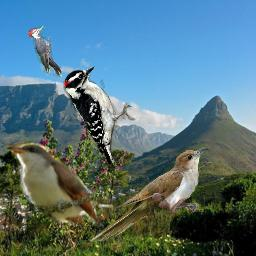Cuckoo: (88, 146, 209, 242), (2, 135, 113, 226)
Woodpecker: (63, 66, 137, 168), (28, 26, 62, 77)
